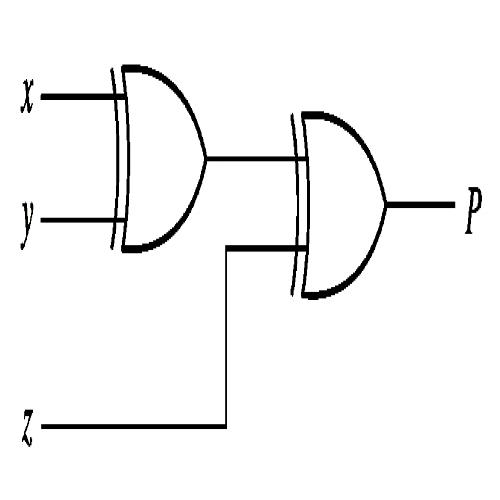xor: (288, 96, 390, 310), (108, 55, 211, 262)
